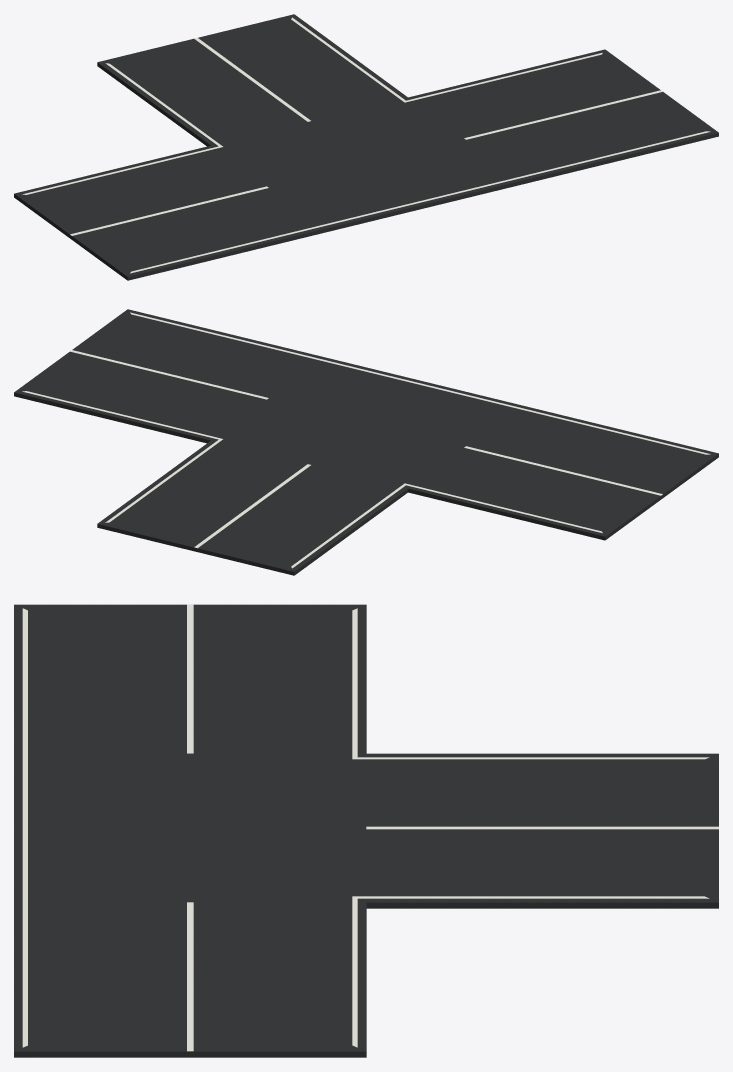
The model's file is OAR_Road_Junction_T.fbx.
3 renders of one model, top to bottom at view 1: azimuth 30°, elevation 25°; view 2: azimuth 150°, elevation 25°; view 3: azimuth 270°, elevation 25°, orthographic. The views are drawn at different scales.
Parts seen in each view (by area): view 1: Body, Markings.009_Mesh; view 2: Body, Markings.009_Mesh; view 3: Body, Markings.009_Mesh.
Boxes of the visible parts, x1,y1,x2,y2 form: Body: (14, 14, 718, 280); Markings.009_Mesh: (22, 17, 710, 273); Body: (14, 309, 718, 575); Markings.009_Mesh: (22, 312, 710, 568); Body: (14, 604, 718, 1057); Markings.009_Mesh: (22, 604, 718, 1051).
Size of the model in its own units: 24 by 0.153 by 16.
